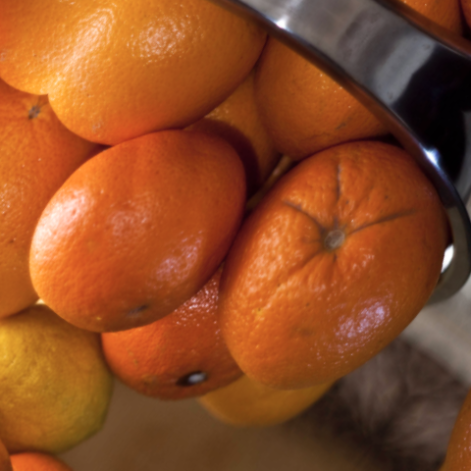orange: (164, 81, 471, 448), (0, 67, 302, 424)
